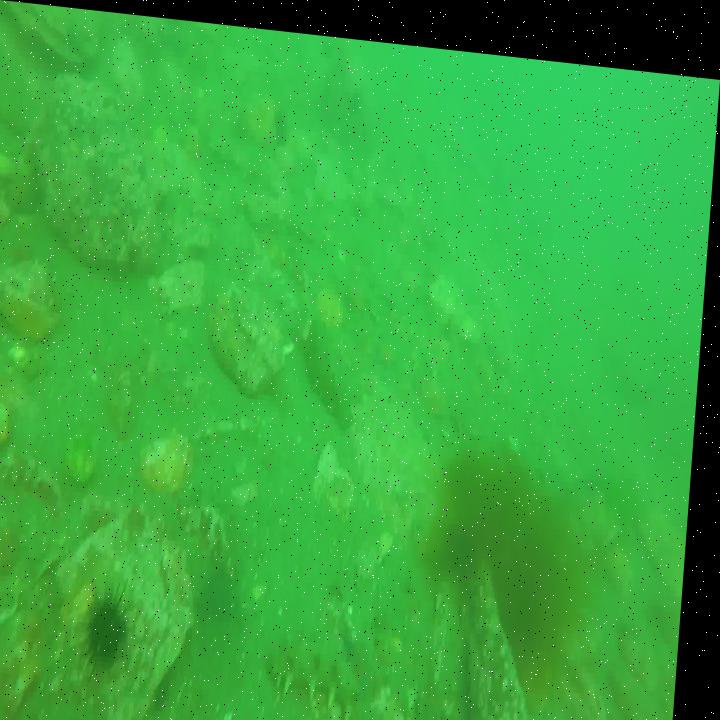echinus: (94, 591, 138, 662), (267, 107, 292, 153)
holothurian: (279, 618, 373, 704), (303, 303, 358, 420)
